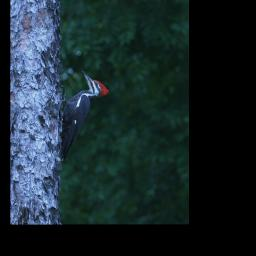Woodpecker: (58, 67, 109, 165)
